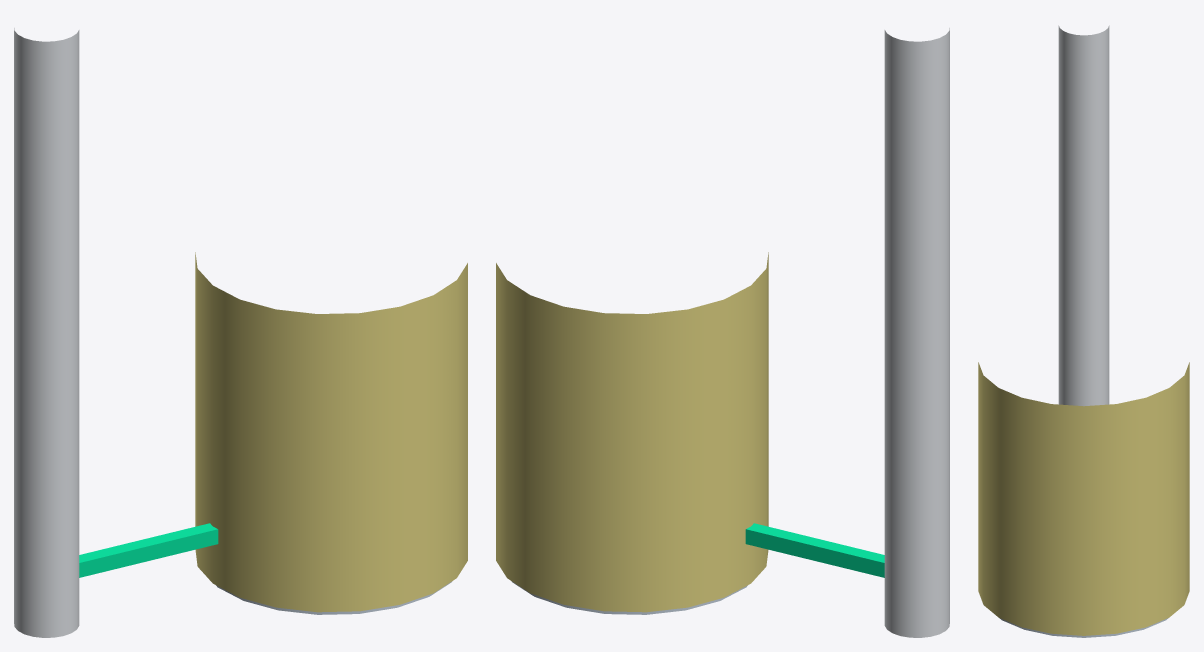
The model's file is falling_head_permeability_darcy.glb.
3 views of the same model, side by side, from view 1: azimuth 30°, elevation 25°; view 2: azimuth 150°, elevation 25°; view 3: azimuth 270°, elevation 25° (orthographic). The views are drawn at different scales.
Visible parts, largest first — view 1: SoilPermeameterCellCylinder, GlassStandpipeGraduatedColumn, ConnectingFlexibleHydraulicTube, PorousStonesDrainageFilterDiscs; view 2: SoilPermeameterCellCylinder, GlassStandpipeGraduatedColumn, ConnectingFlexibleHydraulicTube, PorousStonesDrainageFilterDiscs; view 3: SoilPermeameterCellCylinder, GlassStandpipeGraduatedColumn, PorousStonesDrainageFilterDiscs.
Part boxes in pixels (left/top/right/bottom): SoilPermeameterCellCylinder: left=195, top=252, right=467, bottom=612; GlassStandpipeGraduatedColumn: left=14, top=28, right=79, bottom=637; ConnectingFlexibleHydraulicTube: left=79, top=523, right=218, bottom=577; PorousStonesDrainageFilterDiscs: left=216, top=581, right=452, bottom=614; SoilPermeameterCellCylinder: left=496, top=252, right=768, bottom=612; GlassStandpipeGraduatedColumn: left=884, top=28, right=949, bottom=637; ConnectingFlexibleHydraulicTube: left=745, top=523, right=884, bottom=577; PorousStonesDrainageFilterDiscs: left=511, top=581, right=747, bottom=614; SoilPermeameterCellCylinder: left=978, top=362, right=1189, bottom=635; GlassStandpipeGraduatedColumn: left=1058, top=25, right=1109, bottom=406; PorousStonesDrainageFilterDiscs: left=999, top=618, right=1168, bottom=637.
Size of the model in its own units: 0.91 by 1.21 by 0.5.
